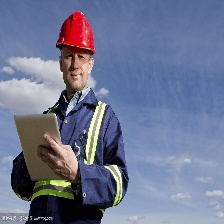helmet: (55, 9, 99, 55)
no-vest: (28, 97, 118, 208)
person: (22, 10, 119, 219)
